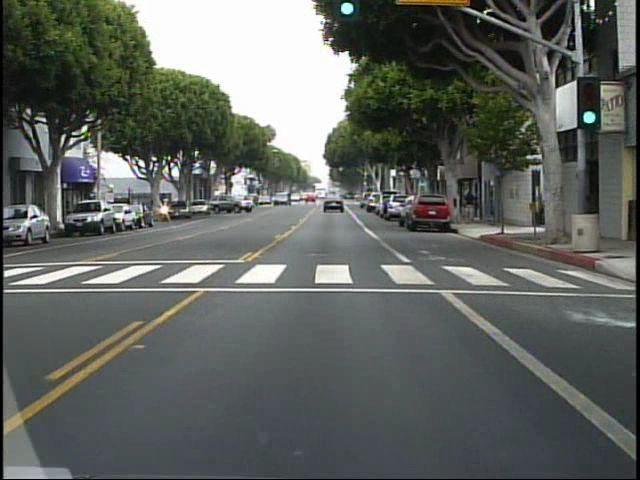person: (461, 185, 482, 225)
